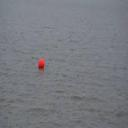red: (38, 58, 45, 69)
